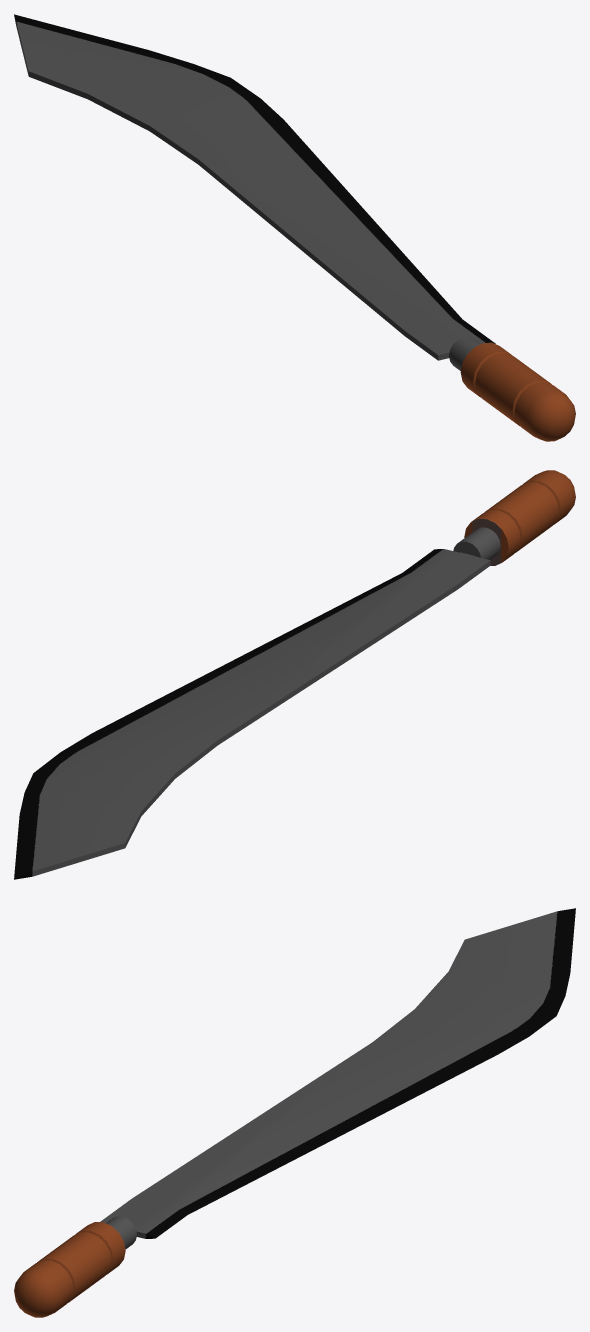
The model's file is Sword.fbx.
The picture shows the model from 3 angles, top to bottom: view 1: azimuth 30°, elevation 25°; view 2: azimuth 150°, elevation 25°; view 3: azimuth 330°, elevation 25°; orthographic projection. The views are drawn at different scales.
Visible parts, largest first — view 1: Cylinder; view 2: Cylinder; view 3: Cylinder.
Boxes of the visible parts, x1=… form: Cylinder: x1=14, y1=14, x2=575, y2=441; Cylinder: x1=14, y1=470, x2=575, y2=879; Cylinder: x1=14, y1=908, x2=575, y2=1317.
Bounding box in the file's own units: 18.47 × 5.68 × 119.
1 material, 1 textured.
